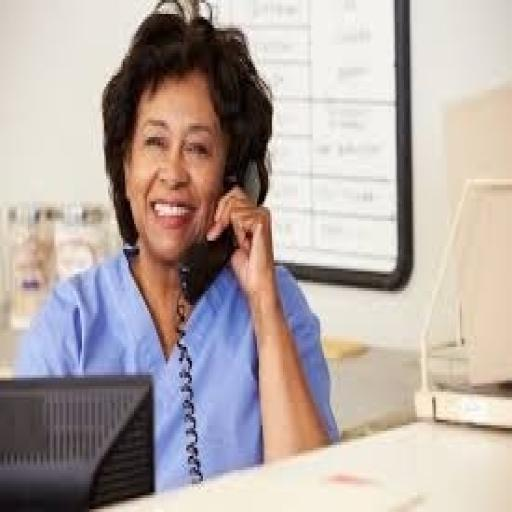calling: (13, 0, 343, 498)
